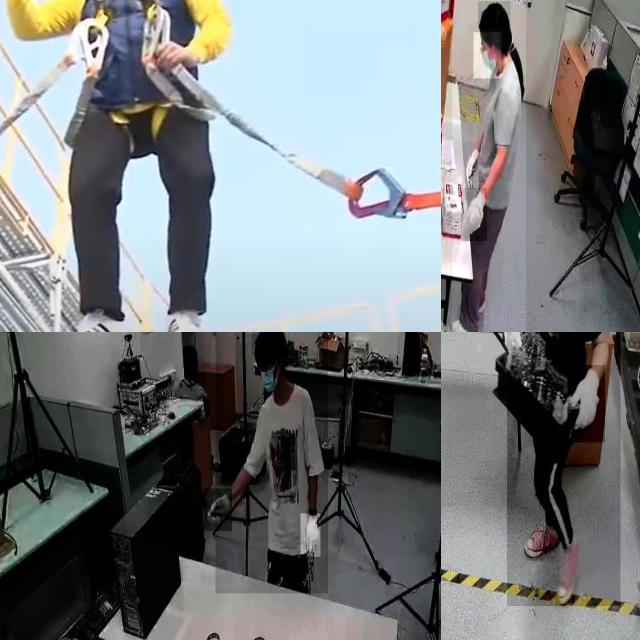Harness: (60, 0, 217, 165)
face_mask: (474, 32, 502, 78), (259, 358, 279, 408)
hand_glove: (568, 365, 606, 443), (461, 188, 487, 242), (204, 488, 232, 532), (462, 142, 483, 187), (301, 513, 321, 558), (503, 332, 526, 363)
head_nohelmet: (478, 1, 511, 30), (251, 332, 286, 355)
person: (507, 332, 621, 606), (215, 332, 328, 594), (451, 0, 526, 332)
shoes: (521, 516, 561, 560), (445, 312, 480, 332)
